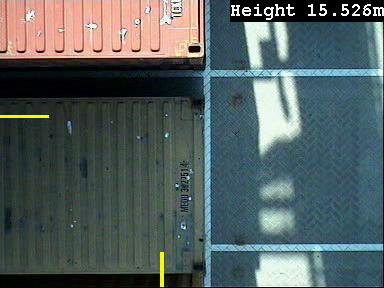groundmarker_2: (202, 45, 237, 97), (203, 222, 237, 274)
